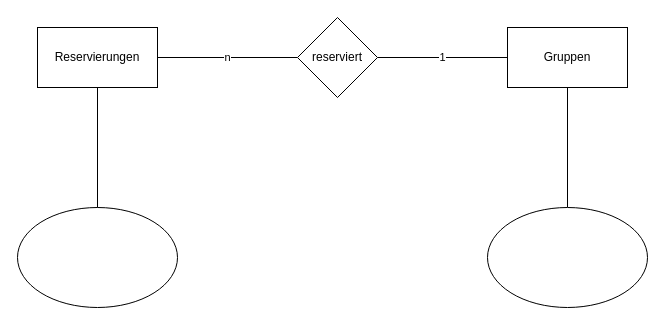
The diagram is 665 pixels wide and 325 high, and some of its shapes have lost their labels. The centre of each missing label's shape, as x and y in pixels:
"Gruppen_ID(PK) Gruppenname Kontaktinformationen" goes at (567,257).
"Reservierung_ID(PK) Gruppen_ID(FK) Datum Gruppengröße Anforderungen" goes at (97,257).
